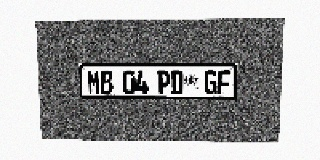0: (123, 70, 135, 94)
4: (136, 70, 148, 94)
B: (100, 70, 113, 94)
D: (170, 70, 183, 94)
F: (217, 70, 231, 94)
G: (204, 70, 217, 94)
M: (88, 70, 100, 94)
P: (157, 70, 170, 94)
